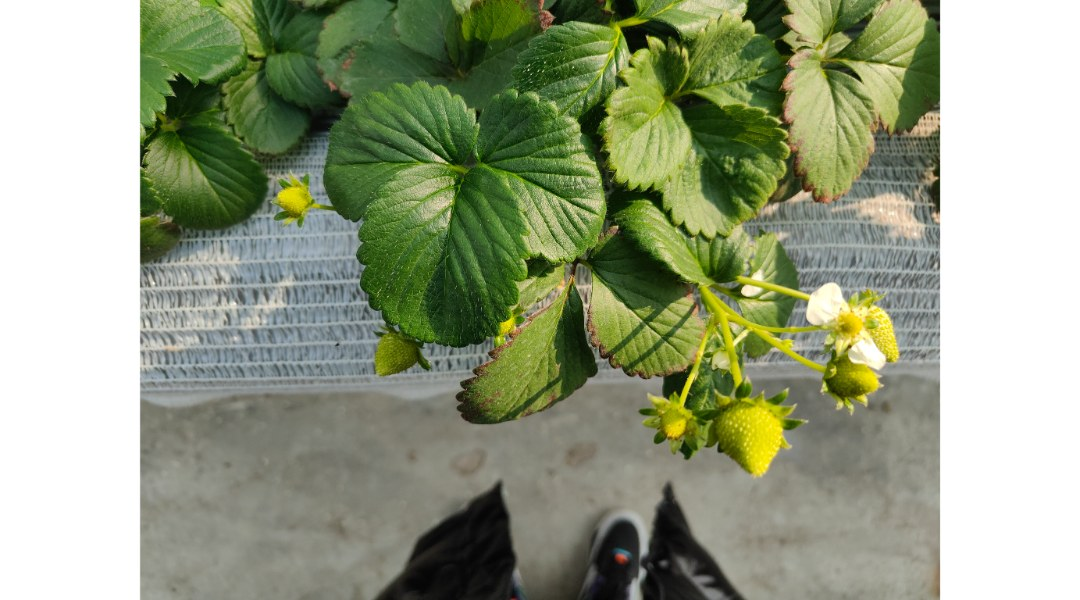berry: (707, 384, 801, 483), (634, 389, 708, 466), (268, 163, 316, 234)
flower: (804, 276, 908, 368)
strain: (757, 337, 823, 376), (744, 267, 807, 302), (682, 331, 707, 409)
